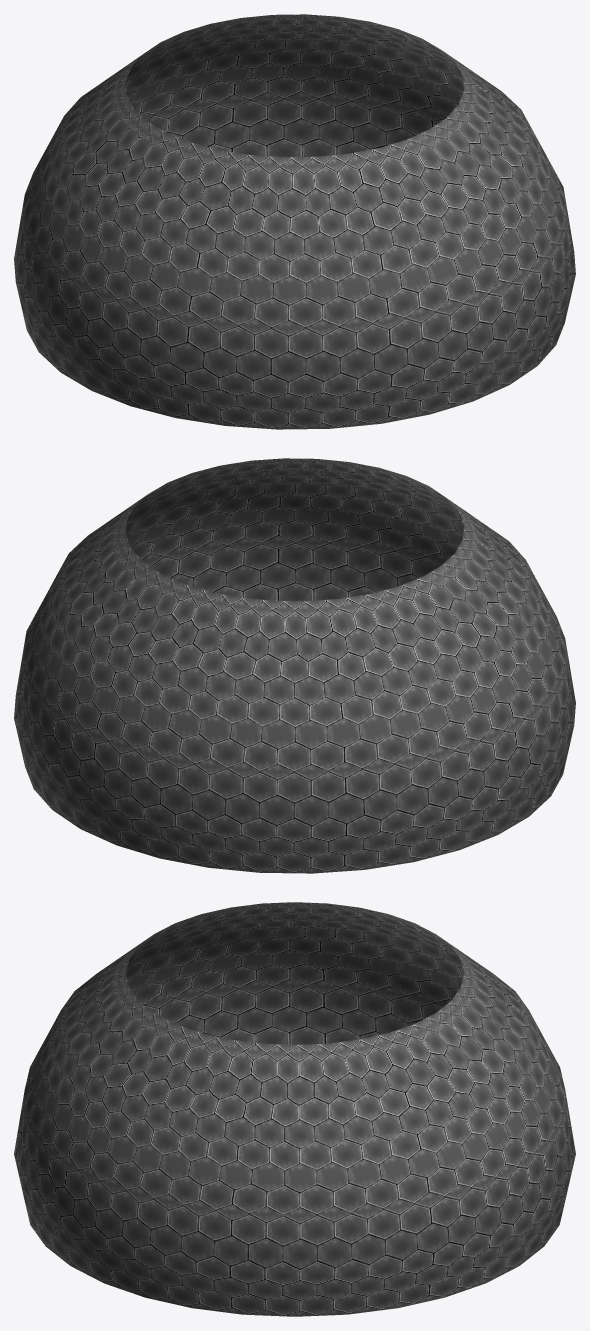
The model's file is E0006_cover.FBX.
3 renders of one model, top to bottom at view 1: azimuth 30°, elevation 25°; view 2: azimuth 150°, elevation 25°; view 3: azimuth 270°, elevation 25°, orthographic.
Visible parts, largest first — view 1: Sphere001; view 2: Sphere001; view 3: Sphere001.
Part boxes in pixels (bbox=[...]): Sphere001: bbox=[14, 14, 575, 429]; Sphere001: bbox=[14, 458, 575, 873]; Sphere001: bbox=[14, 902, 575, 1316].
Size of the model in its own units: 30.64 by 13.79 by 30.64.
